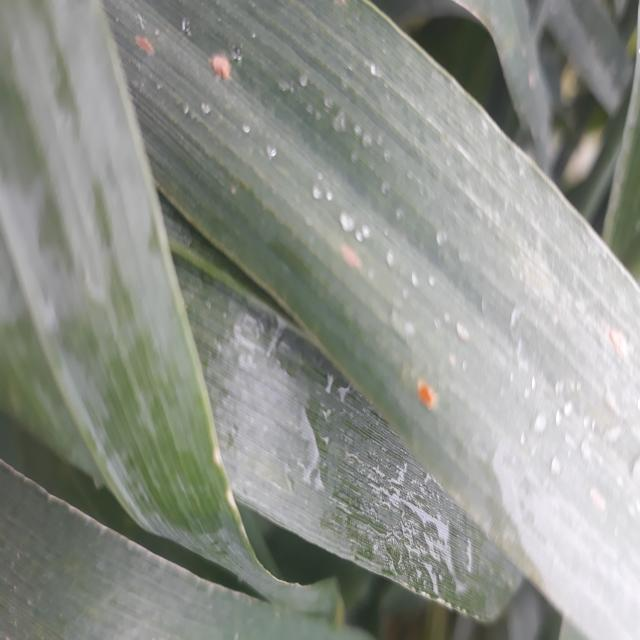orang_rust: (402, 353, 458, 439)
